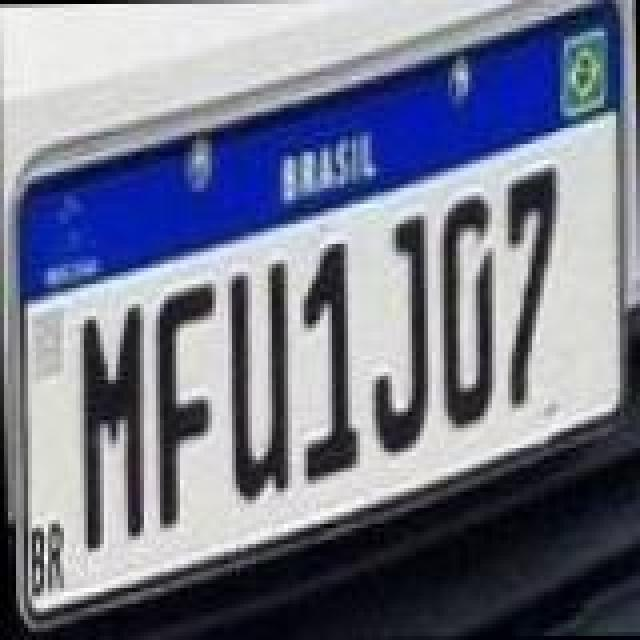1: (298, 242, 362, 486)
7: (504, 162, 564, 406)
D: (436, 190, 496, 430)
F: (154, 282, 222, 530)
J: (370, 212, 434, 456)
M: (78, 300, 146, 556)
U: (228, 260, 292, 504)
